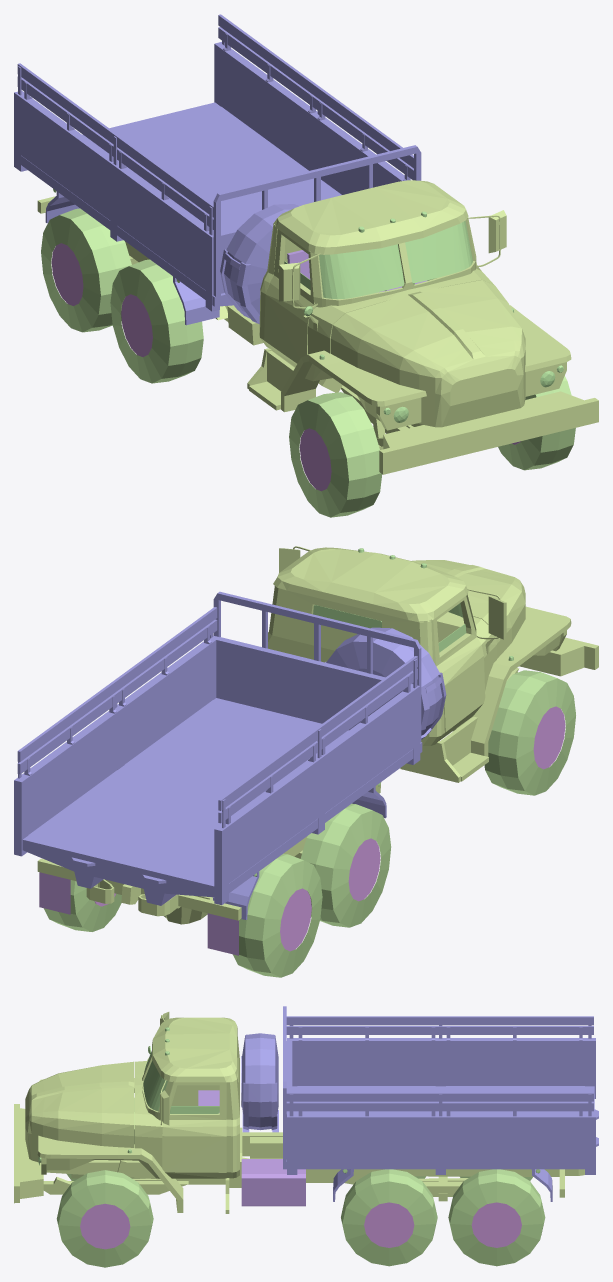
File: land-wheeled-ural--whl-07-default.glb
The picture shows the model from 3 angles, top to bottom: view 1: azimuth 30°, elevation 25°; view 2: azimuth 150°, elevation 25°; view 3: azimuth 270°, elevation 25°; orthographic projection. The views are drawn at different scales.
Visible parts, largest first — view 1: CC_WHL_07_Cab, CC_WHL_07_Flatbed, CC_WHL_07_Wheel_1, CC_WHL_07_Wheel_5, CC_WHL_07_Wheel_3, CC_WHL_07_Wheel_0; view 2: CC_WHL_07_Flatbed, CC_WHL_07_Cab, CC_WHL_07_Wheel_1, CC_WHL_07_Wheel_3, CC_WHL_07_Wheel_5, CC_WHL_07_Wheel_2; view 3: CC_WHL_07_Flatbed, CC_WHL_07_Cab, CC_WHL_07_Wheel_2, CC_WHL_07_Wheel_0, CC_WHL_07_Wheel_4, CC_WHL_07_Interior.
Part boxes in pixels (box(x1,y1,x2,y2)): CC_WHL_07_Cab: box(37, 180, 598, 474); CC_WHL_07_Flatbed: box(14, 14, 421, 325); CC_WHL_07_Wheel_1: box(289, 392, 382, 517); CC_WHL_07_Wheel_5: box(110, 259, 203, 383); CC_WHL_07_Wheel_3: box(41, 208, 131, 332); CC_WHL_07_Wheel_0: box(498, 376, 575, 470); CC_WHL_07_Flatbed: box(14, 591, 446, 919); CC_WHL_07_Cab: box(37, 546, 598, 955); CC_WHL_07_Wheel_1: box(484, 670, 575, 795); CC_WHL_07_Wheel_3: box(233, 853, 322, 977); CC_WHL_07_Wheel_5: box(300, 803, 391, 927); CC_WHL_07_Wheel_2: box(44, 880, 121, 931); CC_WHL_07_Flatbed: box(241, 1006, 598, 1201); CC_WHL_07_Cab: box(14, 1012, 584, 1213); CC_WHL_07_Wheel_2: box(448, 1169, 545, 1266); CC_WHL_07_Wheel_0: box(56, 1170, 153, 1267); CC_WHL_07_Wheel_4: box(341, 1169, 437, 1266); CC_WHL_07_Interior: box(171, 1085, 219, 1112).
Size of the model in its own units: 3.06 by 2.98 by 8.47.
